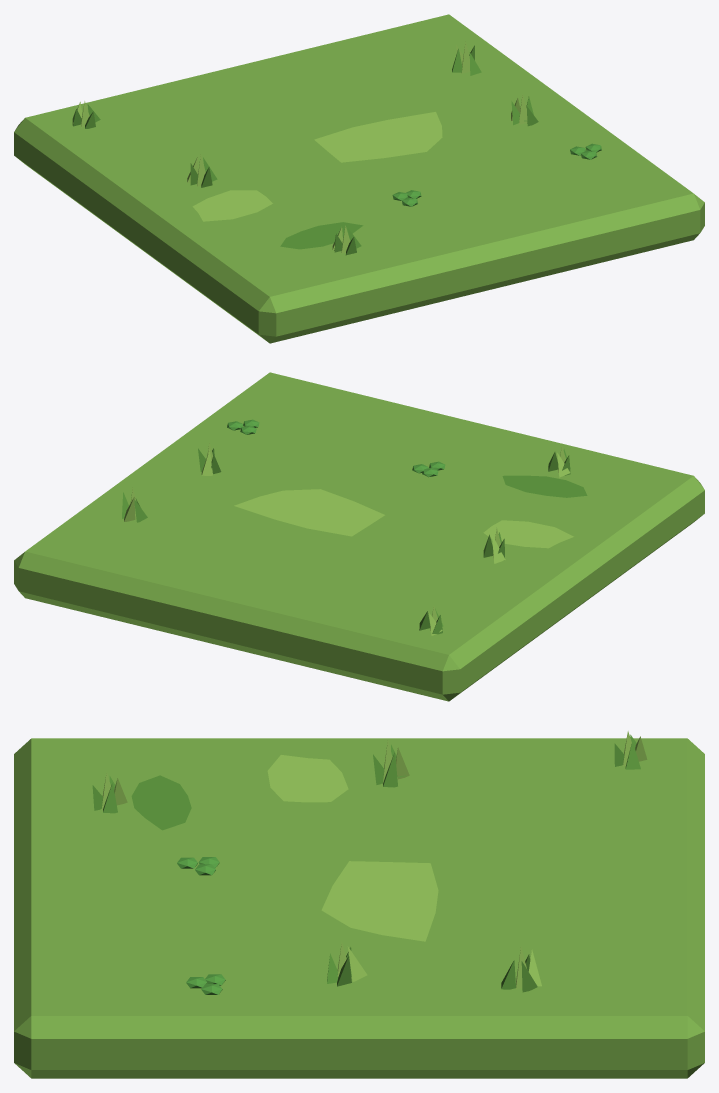
The model's file is tile_grass_d.fbx.
3 views of the same model, one above another, from view 1: azimuth 30°, elevation 25°; view 2: azimuth 150°, elevation 25°; view 3: azimuth 270°, elevation 25° (orthographic). The views are drawn at different scales.
Parts seen in each view (by area): view 1: tile_grass_d; view 2: tile_grass_d; view 3: tile_grass_d.
Boxes of the visible parts, box(x1,y1,x2,y2) form: tile_grass_d: box(14, 14, 704, 343); tile_grass_d: box(14, 372, 704, 701); tile_grass_d: box(14, 731, 704, 1078).
Bounding box in the file's own units: 1 × 0.1657 × 1.
